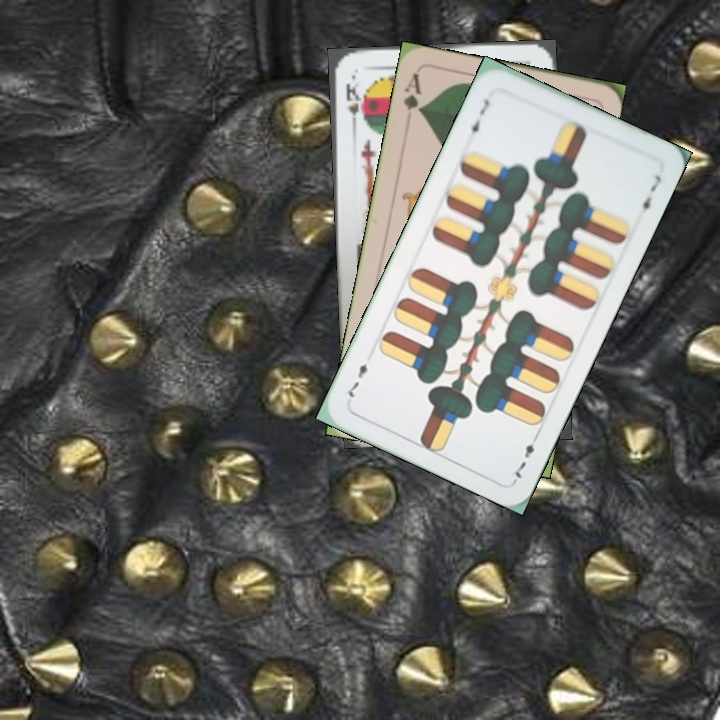E7: (463, 95, 493, 141), (507, 439, 537, 484)
GA: (399, 69, 424, 118)
SK: (342, 79, 364, 131)
